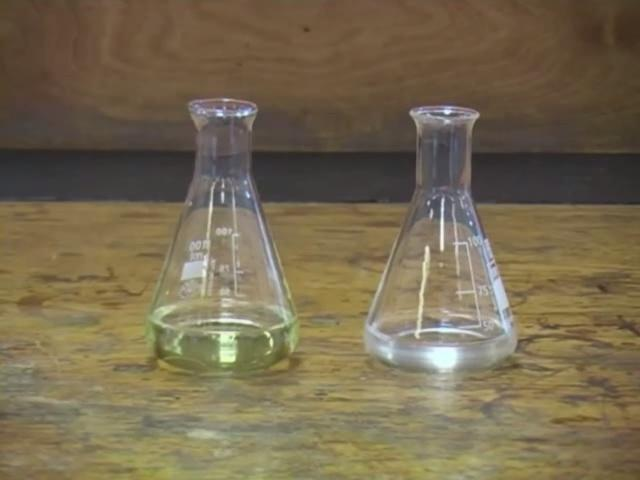Titrarion: (353, 86, 532, 377), (155, 68, 309, 394)
